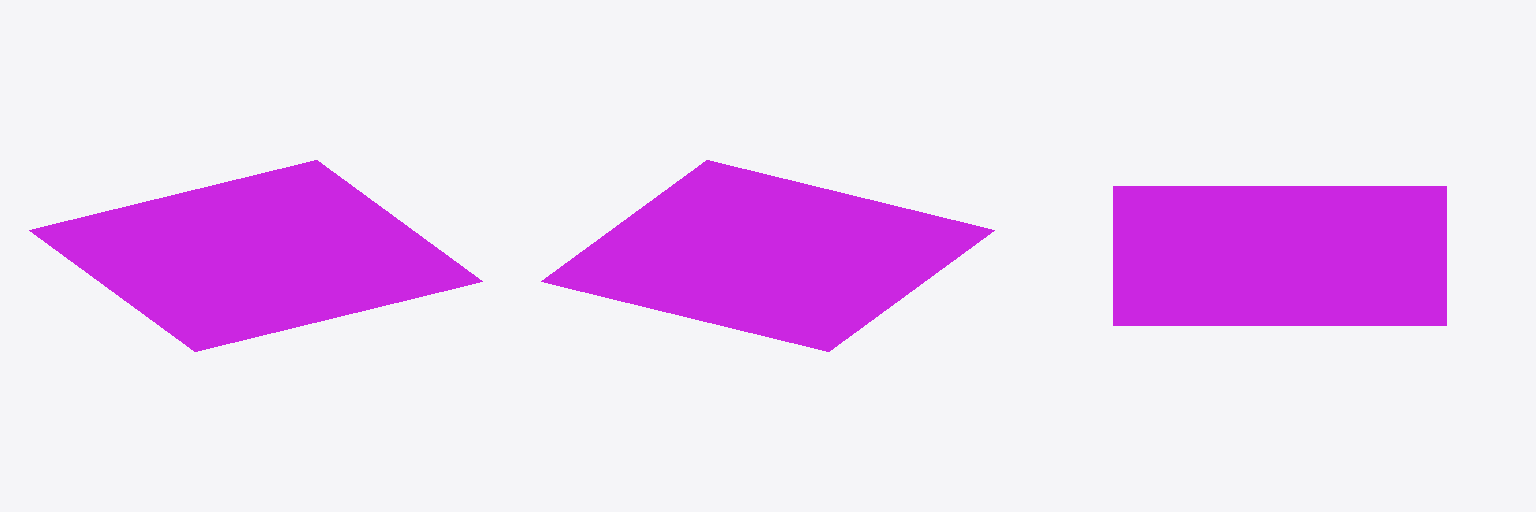
Rendered from plan-tavuh.obj.
3 renders of one model, left to right at view 1: azimuth 30°, elevation 25°; view 2: azimuth 150°, elevation 25°; view 3: azimuth 270°, elevation 25°, orthographic.
Parts seen in each view (by area): view 1: Plan; view 2: Plan; view 3: Plan.
Boxes of the visible parts, x1=… form: Plan: x1=29, y1=160, x2=482, y2=351; Plan: x1=541, y1=160, x2=994, y2=351; Plan: x1=1113, y1=186, x2=1446, y2=325.
Bounding box in the file's own units: 10000 × 0 × 10000.